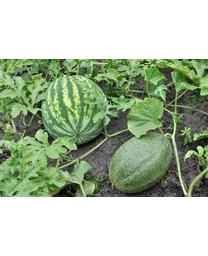watermelon: (109, 130, 176, 196), (44, 77, 107, 143)
